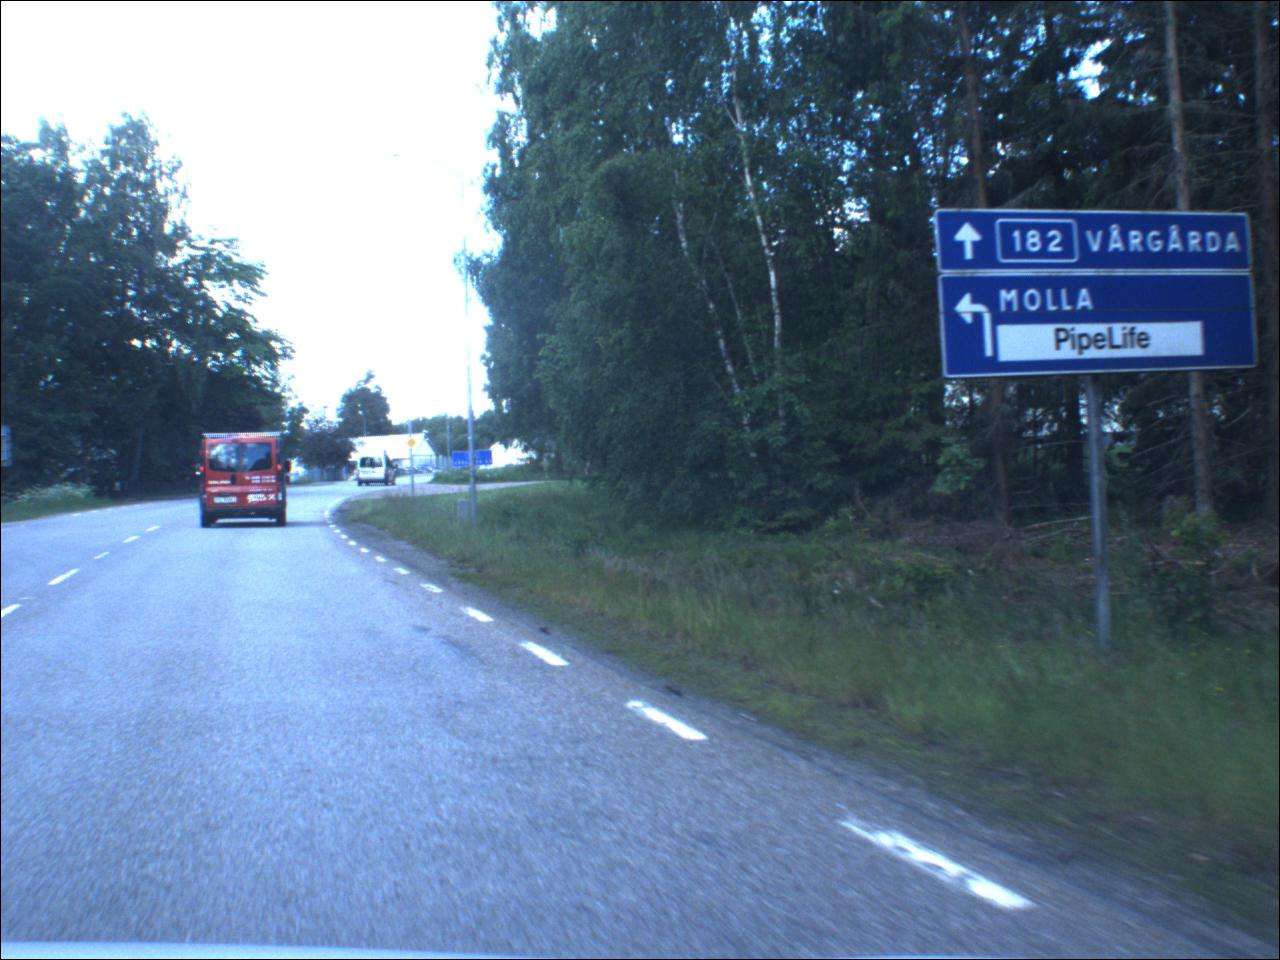PRIORITY_ROAD: (407, 441, 420, 451)
